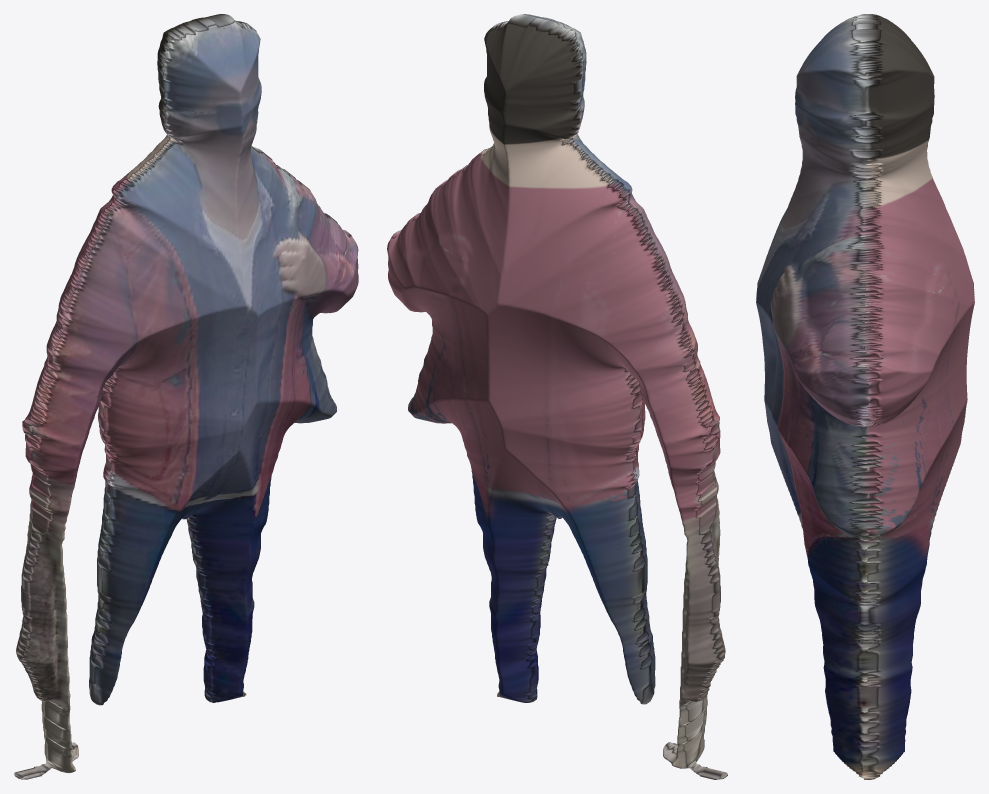
The model's file is person.glb.
The picture shows the model from 3 angles, left to right: view 1: azimuth 30°, elevation 25°; view 2: azimuth 150°, elevation 25°; view 3: azimuth 270°, elevation 25°; orthographic projection. The views are drawn at different scales.
Parts seen in each view (by area): view 1: person; view 2: person; view 3: person.
Part boxes in pixels (bbox=[...]): person: bbox=[14, 14, 358, 779]; person: bbox=[387, 14, 727, 779]; person: bbox=[756, 14, 974, 779].
Size of the model in its own units: 0.8056 by 1.64 by 0.4253.
